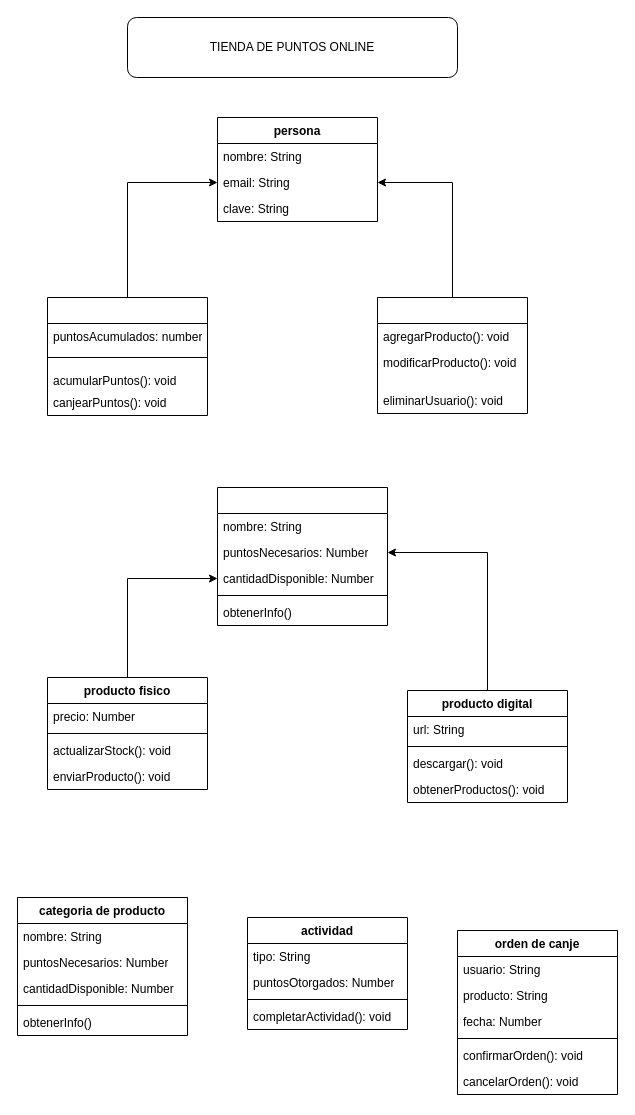
Some shapes in this 635 by 1115 pixel diagram are drawn without their labels. Here are the shapes that lost their labels. From the top down, the box of each, then its label:
(46, 296, 208, 416): usuario
(376, 296, 528, 414): administrador
(216, 486, 388, 626): producto
